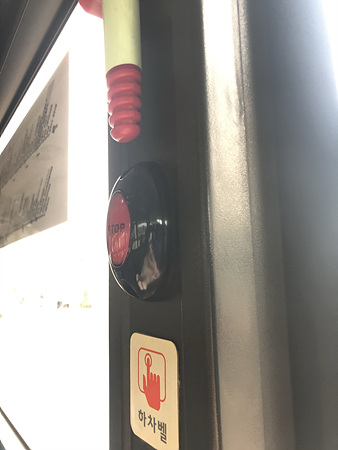bell: (106, 160, 184, 301)
